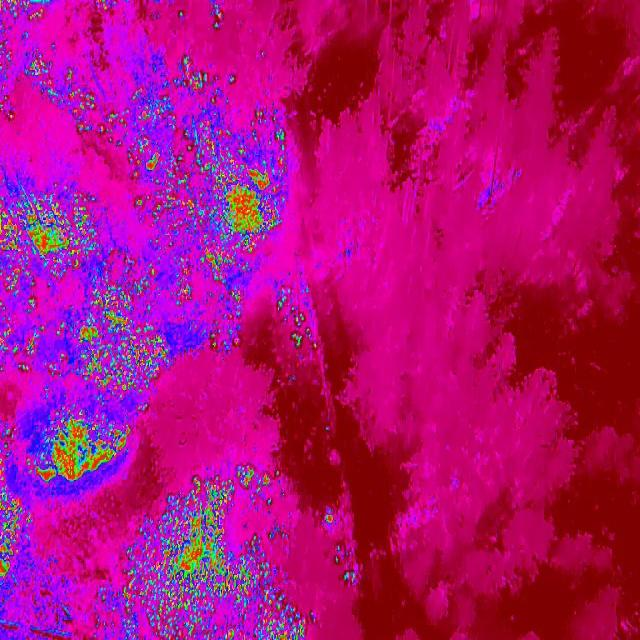fire: (118, 464, 305, 638), (186, 96, 287, 282), (51, 278, 170, 402), (0, 176, 103, 284), (122, 78, 188, 228), (29, 402, 132, 483), (27, 53, 119, 142), (0, 284, 46, 375), (203, 288, 246, 358), (0, 488, 32, 577), (276, 292, 320, 351), (168, 260, 200, 308), (176, 52, 210, 97), (0, 39, 17, 125), (0, 420, 18, 482), (0, 0, 45, 22), (208, 2, 226, 32), (337, 567, 359, 591), (319, 508, 338, 530), (94, 0, 118, 14), (176, 6, 186, 24)
